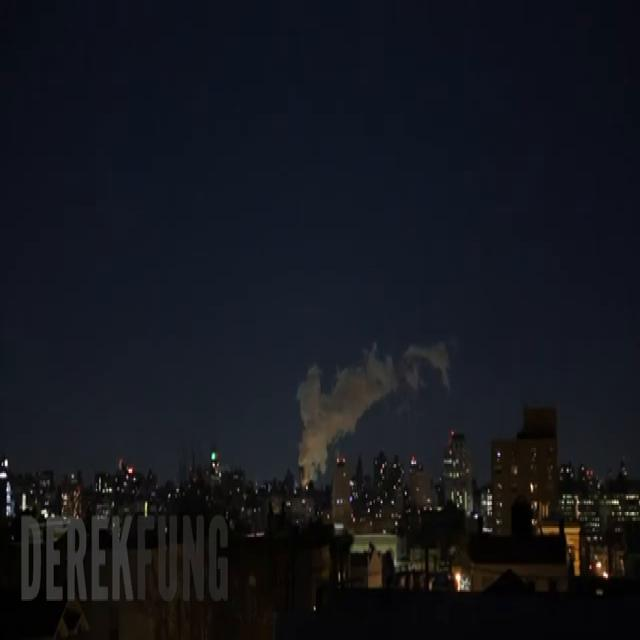smoke: (298, 357, 397, 489)
